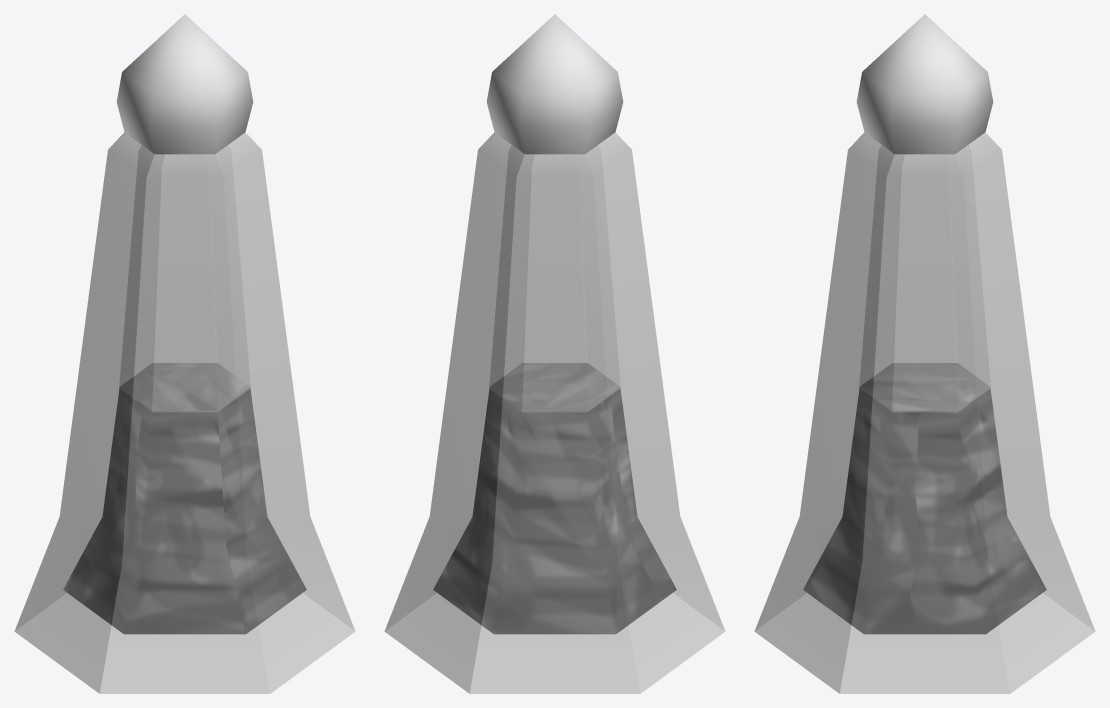
Rendered from obj_PepperShaker.fbx.
3 renders of one model, left to right at view 1: azimuth 30°, elevation 25°; view 2: azimuth 150°, elevation 25°; view 3: azimuth 270°, elevation 25°, orthographic.
Visible parts, largest first — view 1: obj_PepperShaker; view 2: obj_PepperShaker; view 3: obj_PepperShaker.
Boxes of the visible parts, left/top/right/bottom form: obj_PepperShaker: left=14, top=14, right=355, bottom=693; obj_PepperShaker: left=384, top=14, right=725, bottom=693; obj_PepperShaker: left=754, top=14, right=1095, bottom=693.
Size of the model in its own units: 0.0538 by 0.1241 by 0.0621.
3 materials, 1 textured.
